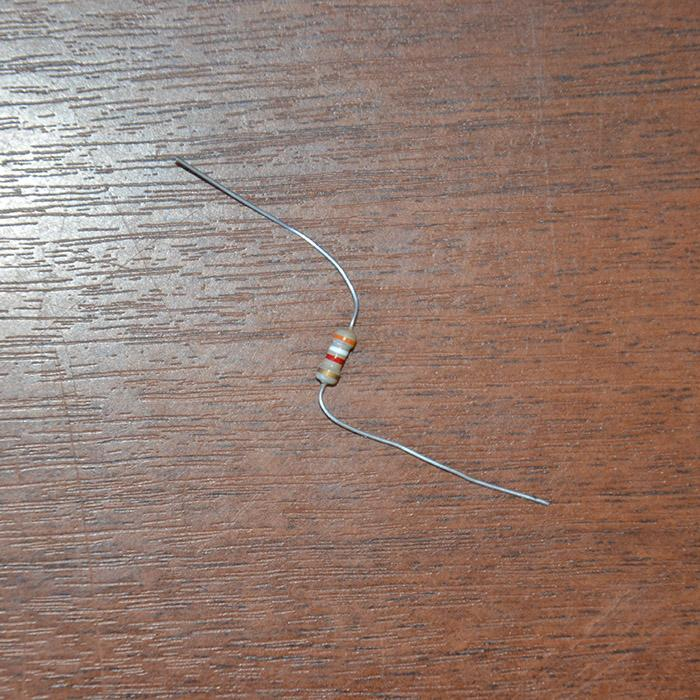resistor: (315, 325, 358, 386)
